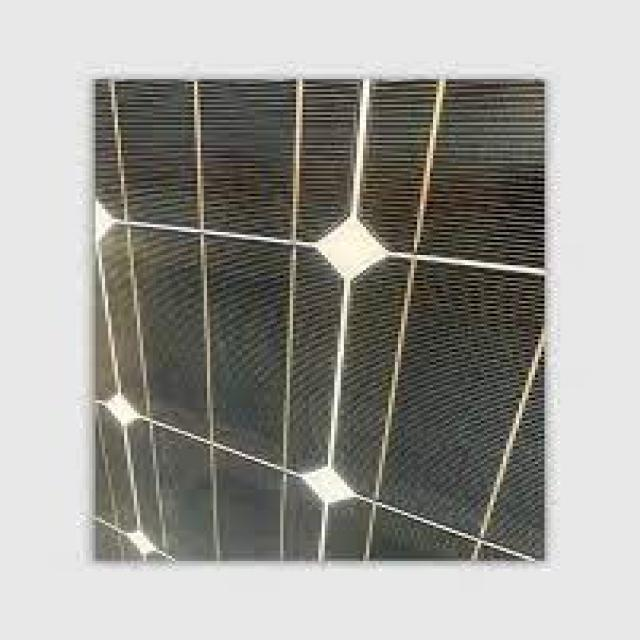faulty: (104, 75, 554, 558)
